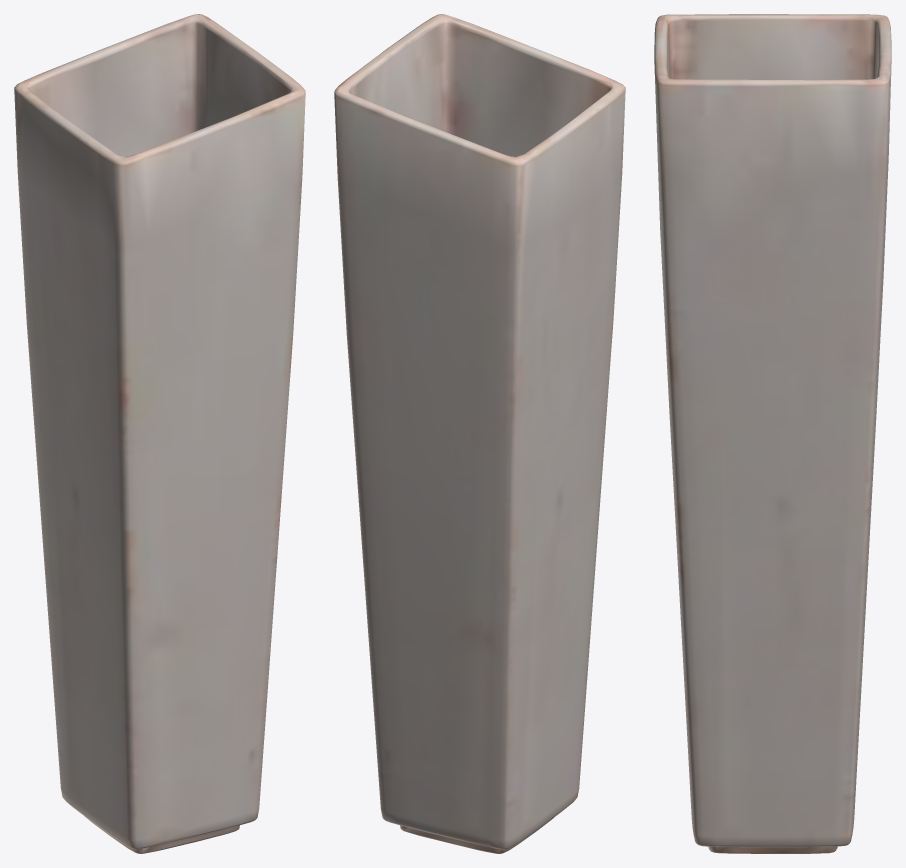
The model's file is vase-tall-balanced-52e0e7428c.glb.
The picture shows the model from 3 angles, left to right: view 1: azimuth 30°, elevation 25°; view 2: azimuth 150°, elevation 25°; view 3: azimuth 270°, elevation 25°; orthographic projection. The views are drawn at different scales.
Visible parts, largest first — view 1: ceramic_vase_03; view 2: ceramic_vase_03; view 3: ceramic_vase_03.
Part boxes in pixels (bbox=[...]): ceramic_vase_03: bbox=[14, 14, 305, 853]; ceramic_vase_03: bbox=[334, 14, 625, 853]; ceramic_vase_03: bbox=[654, 14, 891, 853].
Size of the model in its own units: 0.1123 by 0.4144 by 0.1123.
Materials: 1 (1 with a texture image).
